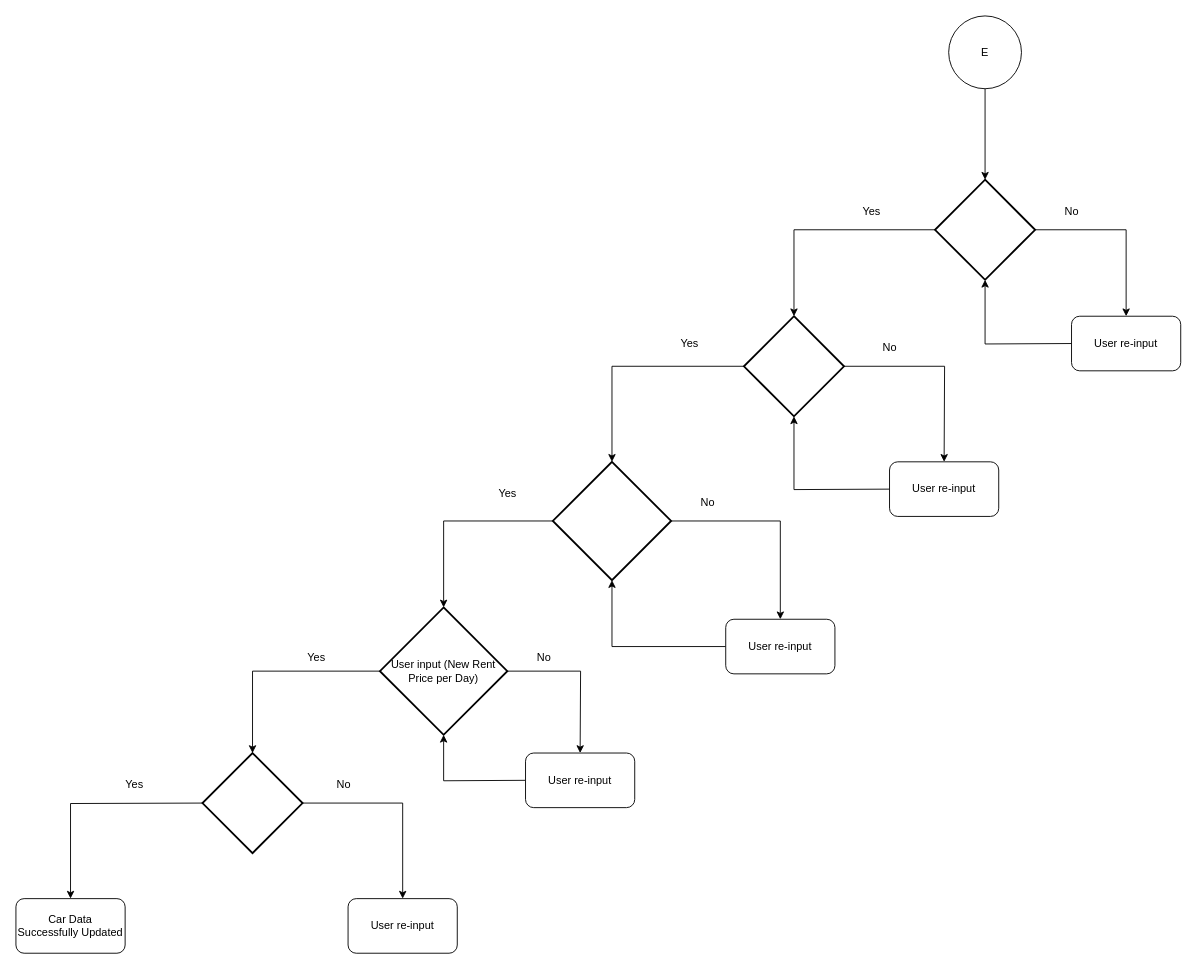
This 1197x969 diagram has some shape labels left out. The box of each missing label's shape, as (x1, y1, x2, y2) in pixels:
User input (Car Number that Will Be Edited): (934, 178, 1036, 280)
User input (New Car Name): (743, 315, 844, 417)
User input (New Car Quantity): (201, 752, 303, 854)
User input (New License Plate Type): (551, 460, 672, 581)
